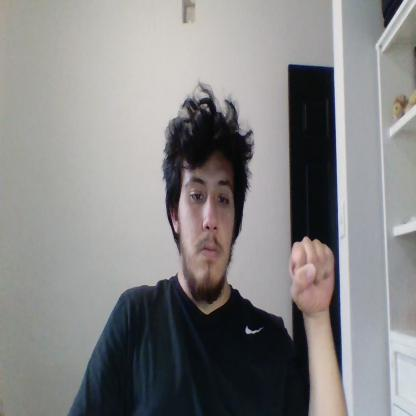S: (288, 236, 334, 312)
